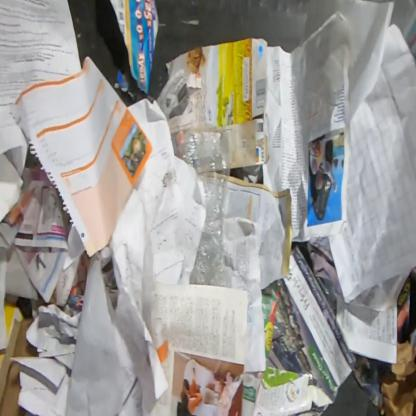cardboard: (164, 37, 270, 170), (0, 298, 40, 415), (250, 366, 336, 415), (379, 338, 415, 415)
rigid_plastic: (178, 124, 232, 288)
